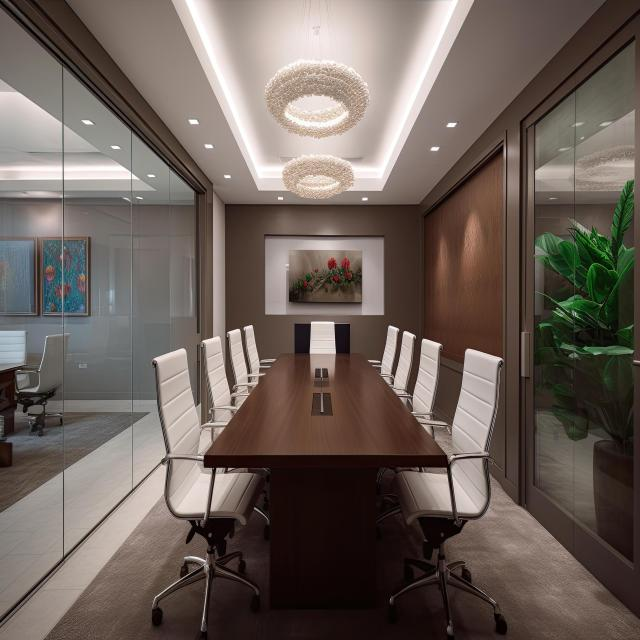chair: (388, 347, 507, 638), (150, 348, 267, 634), (13, 333, 70, 437)
